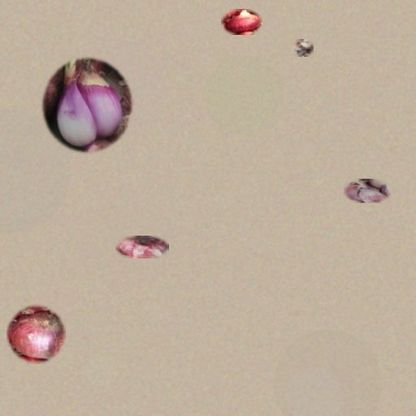damaged: (40, 55, 135, 155)
healthy: (6, 304, 66, 364), (221, 9, 262, 35)
rotten: (115, 236, 169, 258), (293, 39, 314, 57)
sprouted: (344, 179, 391, 203)
